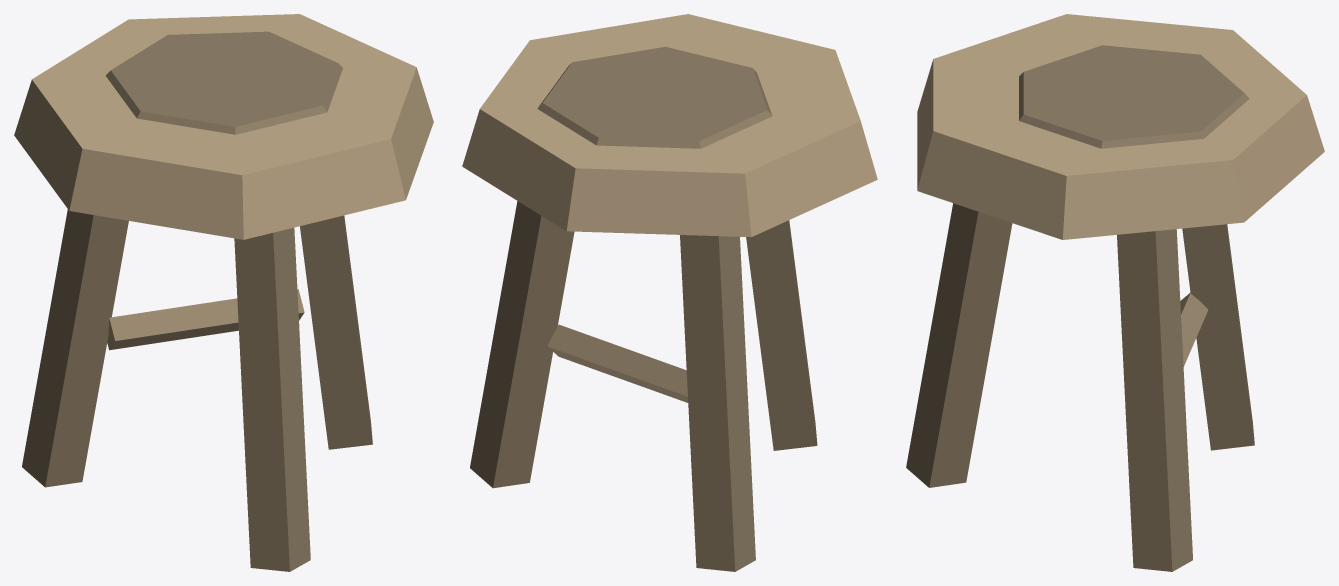
File: stool.glb
3 views of the same model, side by side, from view 1: azimuth 30°, elevation 25°; view 2: azimuth 150°, elevation 25°; view 3: azimuth 270°, elevation 25° (orthographic).
Visible parts, largest first — view 1: driftwood_d5, driftwood_d25, driftwood_d30; view 2: driftwood_d5, driftwood_d25, driftwood_d30; view 3: driftwood_d5, driftwood_d25, driftwood_d30.
Boxes of the visible parts, x1,y1,x2,y2 form: driftwood_d5: (14, 14, 433, 239); driftwood_d25: (22, 209, 372, 571); driftwood_d30: (105, 31, 342, 134); driftwood_d5: (462, 14, 877, 237); driftwood_d25: (470, 201, 817, 571); driftwood_d30: (537, 47, 772, 148); driftwood_d5: (917, 14, 1324, 239); driftwood_d25: (906, 203, 1254, 571); driftwood_d30: (1019, 45, 1249, 148).
Bounding box in the file's own units: 0.468 × 0.5026 × 0.4687.
